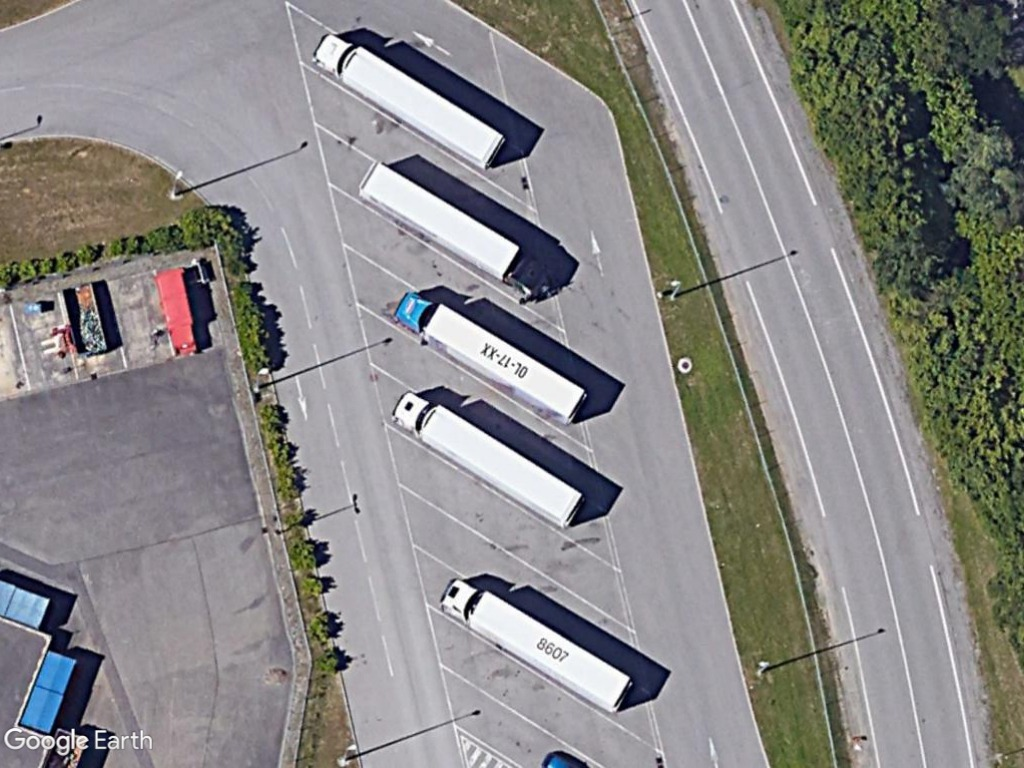longvehicle: (435, 572, 637, 715), (387, 387, 586, 532), (307, 31, 506, 172), (388, 289, 590, 427)
